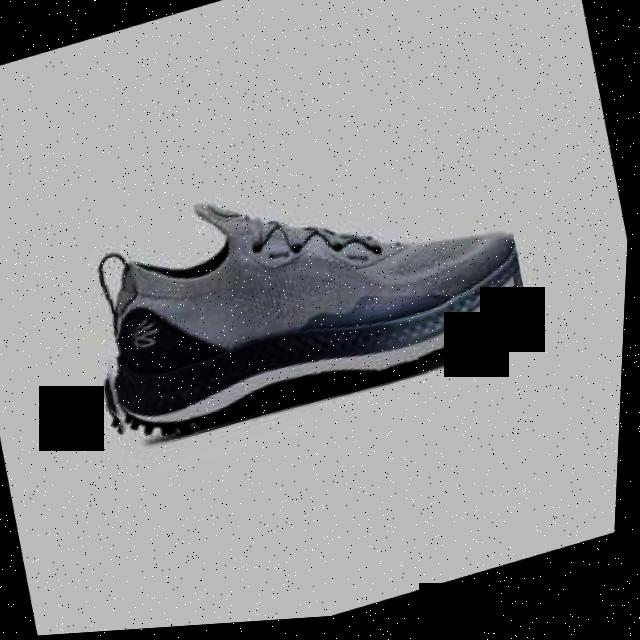shoe: (66, 122, 543, 463)
